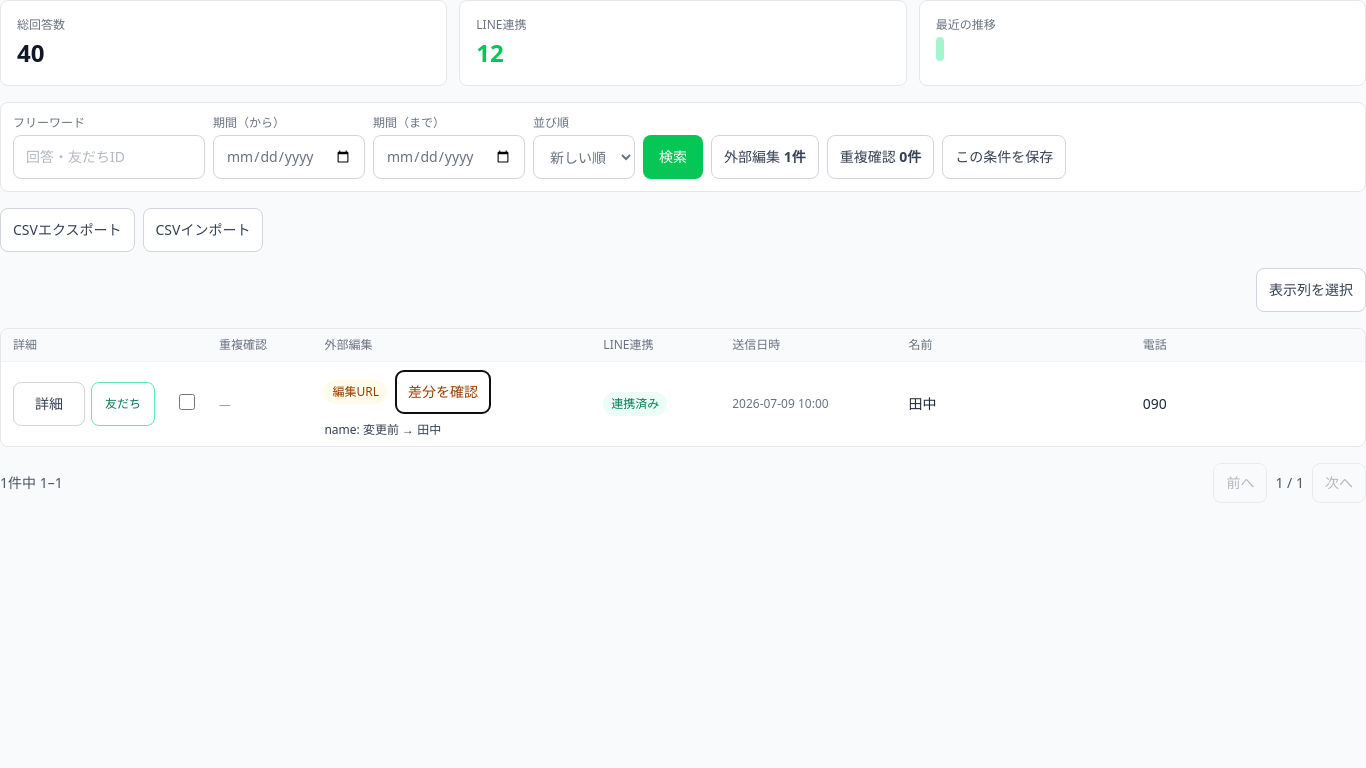
DataCockpit — 外部編集レビュー (D-3) › ポップアップ表示中は背景スクロールを止め、Escapeで閉じた後に入口へフォーカスを戻す
The image size is (1366, 768).
Click the button with aria-label "s1 の外部編集を確認" at (443, 392), box [395,370,491,414]
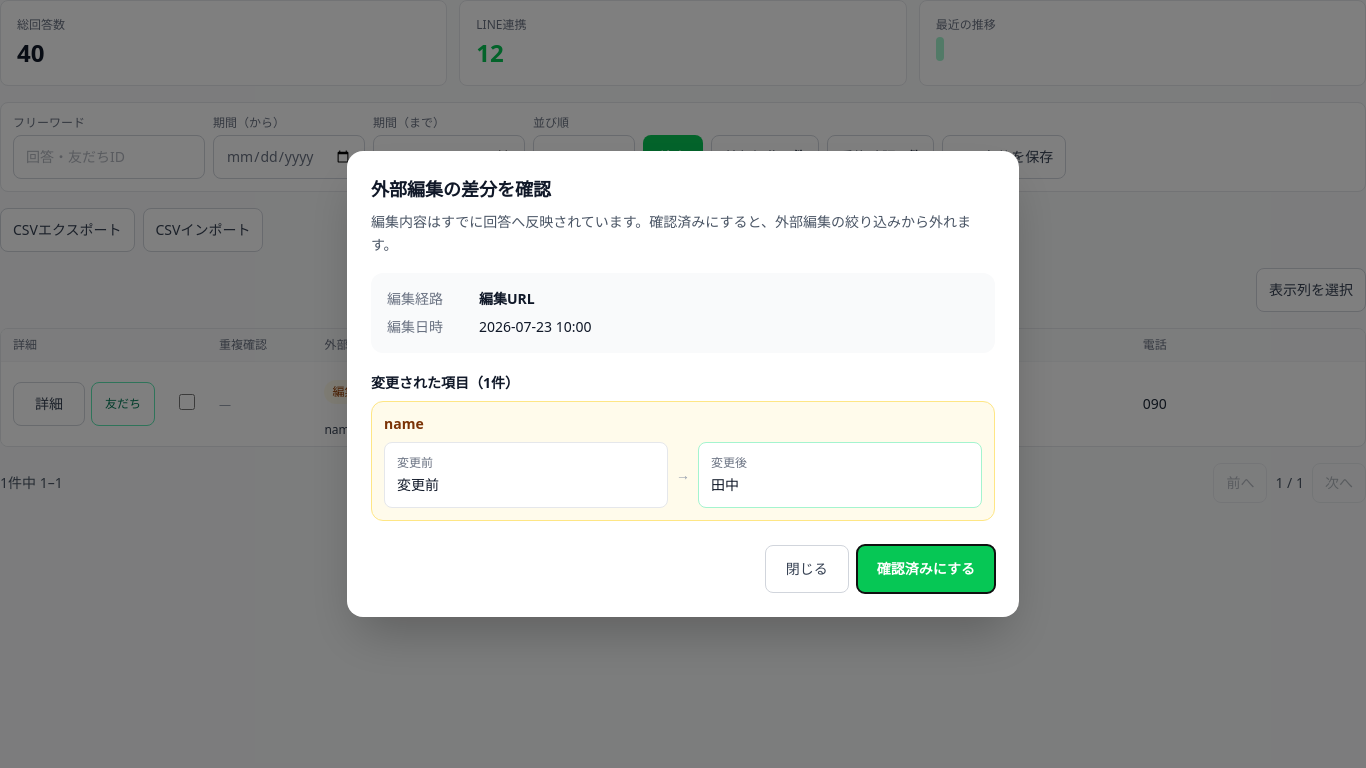
Press Escape
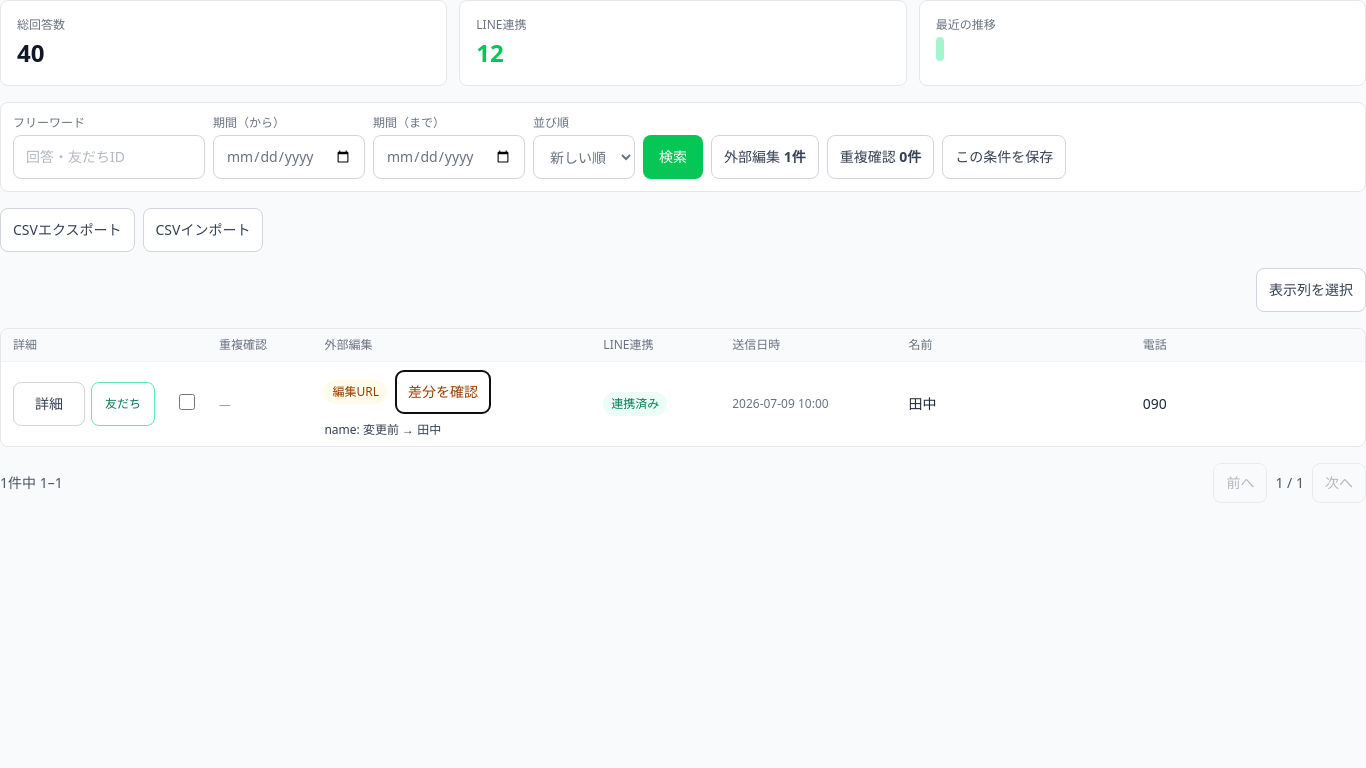
Now the heading "外部編集の差分を確認" is gone
